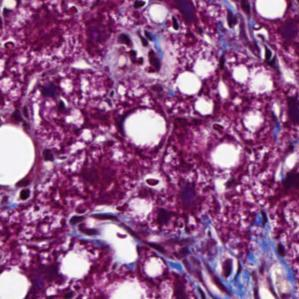inflammation: (114, 27, 167, 76), (215, 254, 245, 283)
